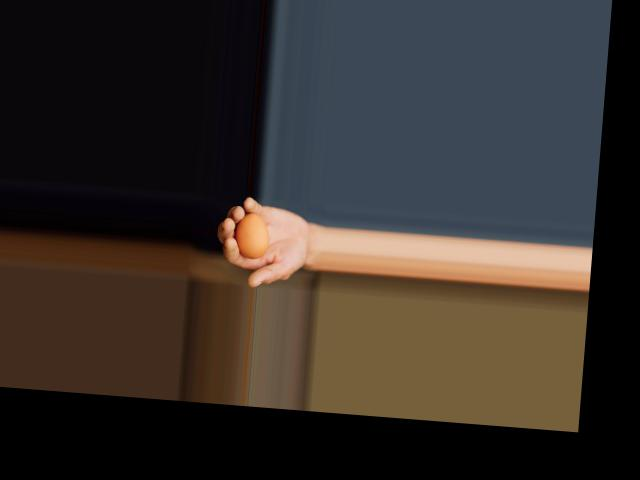egg: (234, 211, 271, 259)
